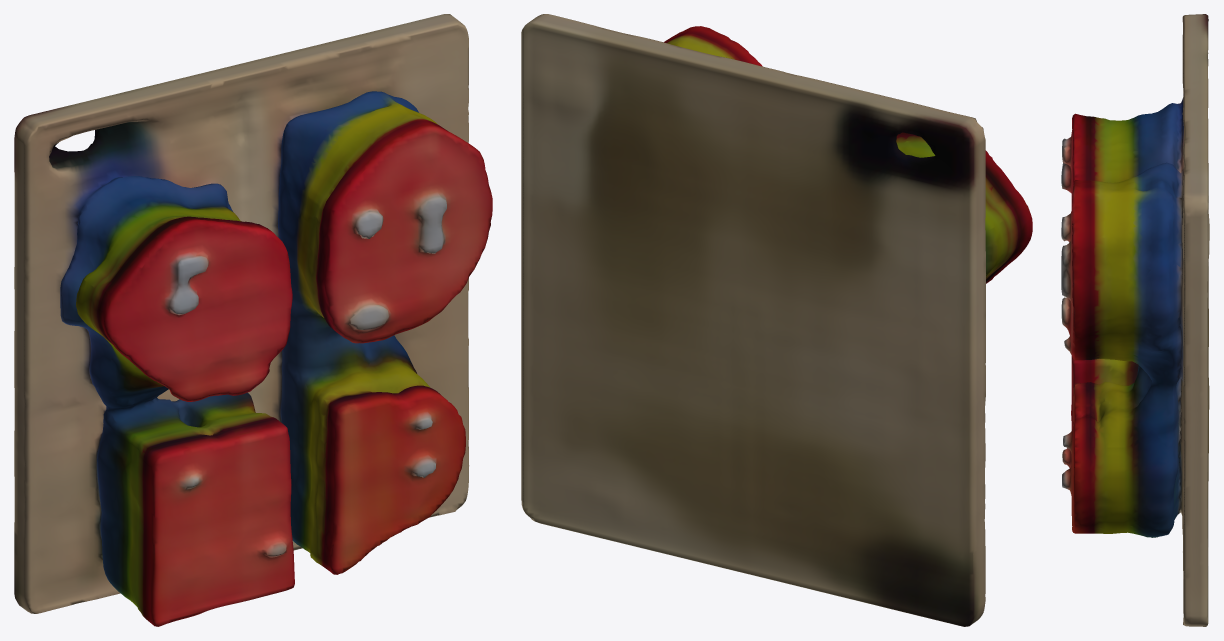
File: sorting_board.glb
3 views of the same model, side by side, from view 1: azimuth 30°, elevation 25°; view 2: azimuth 150°, elevation 25°; view 3: azimuth 270°, elevation 25° (orthographic). The views are drawn at different scales.
Bounding box in the file's own units: 0.9471 × 1 × 0.3107.
